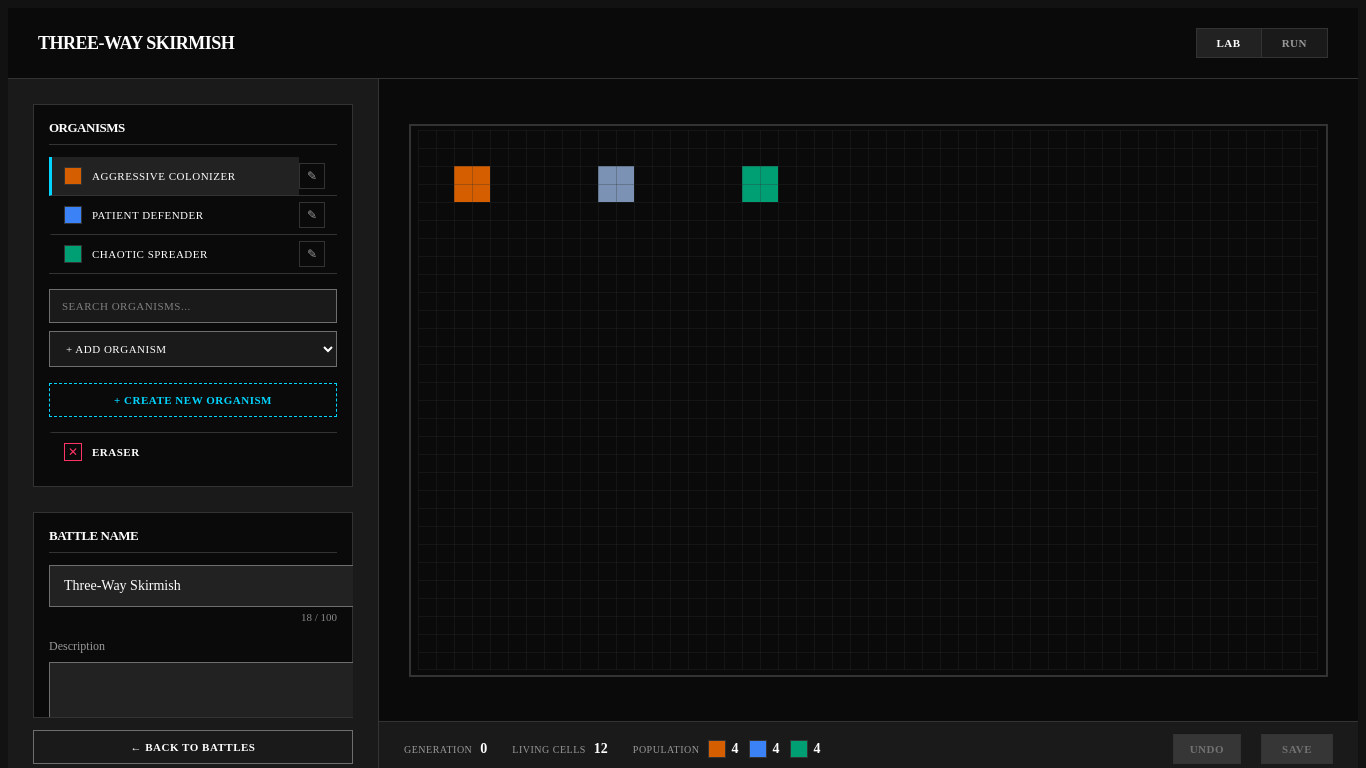
Scenario: BattlePage — create organism from battle (Story 4.25) › Cancel on a clean draft adds no row, leaves the selection unchanged and writes nothing (AC5)
Expected: the heading "Three-Way Skirmish" is shown, [38,32,234,54]
Expected: the button "Aggressive Colonizer" is shown, [49,157,299,196]
Click the button "+ Create New Organism": (193, 400) [49,383,337,417]
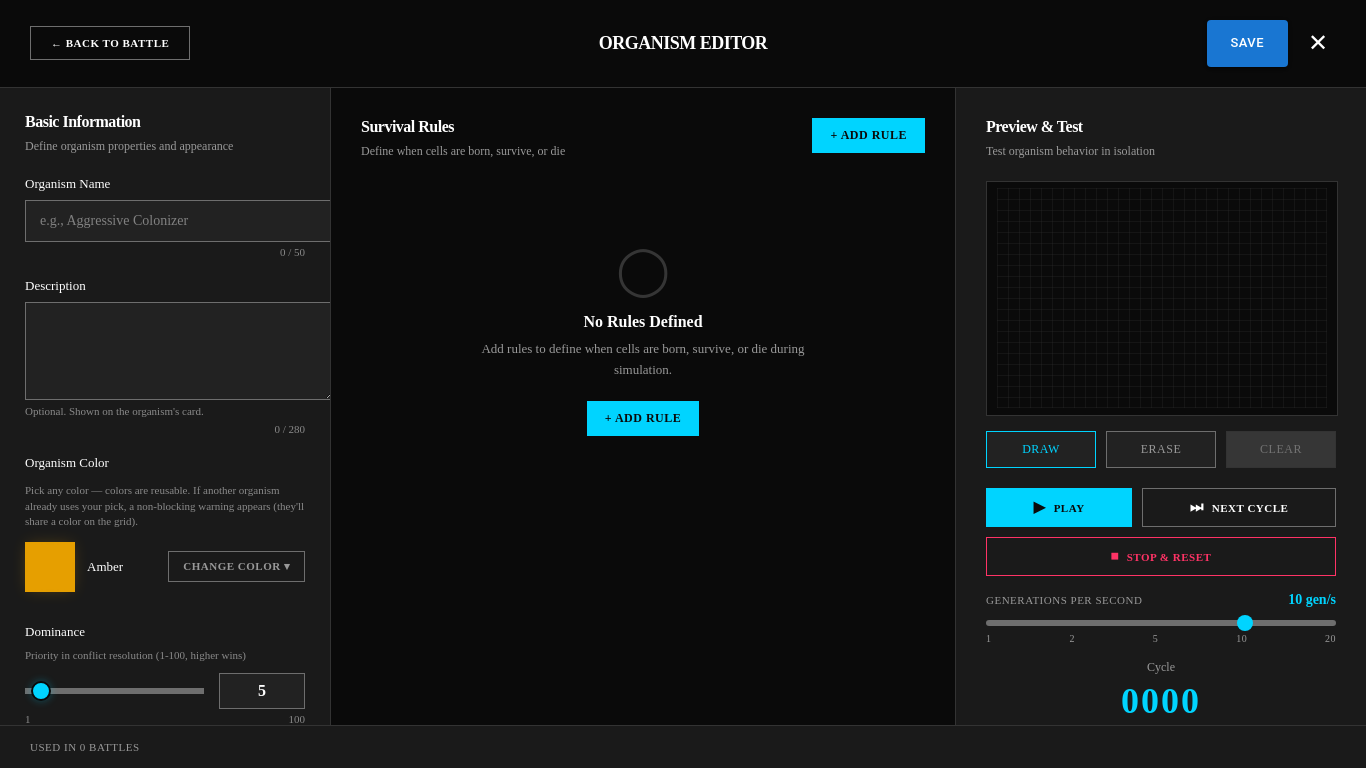
Click the button "← Back to Battle": (110, 43) [30,26,190,60]
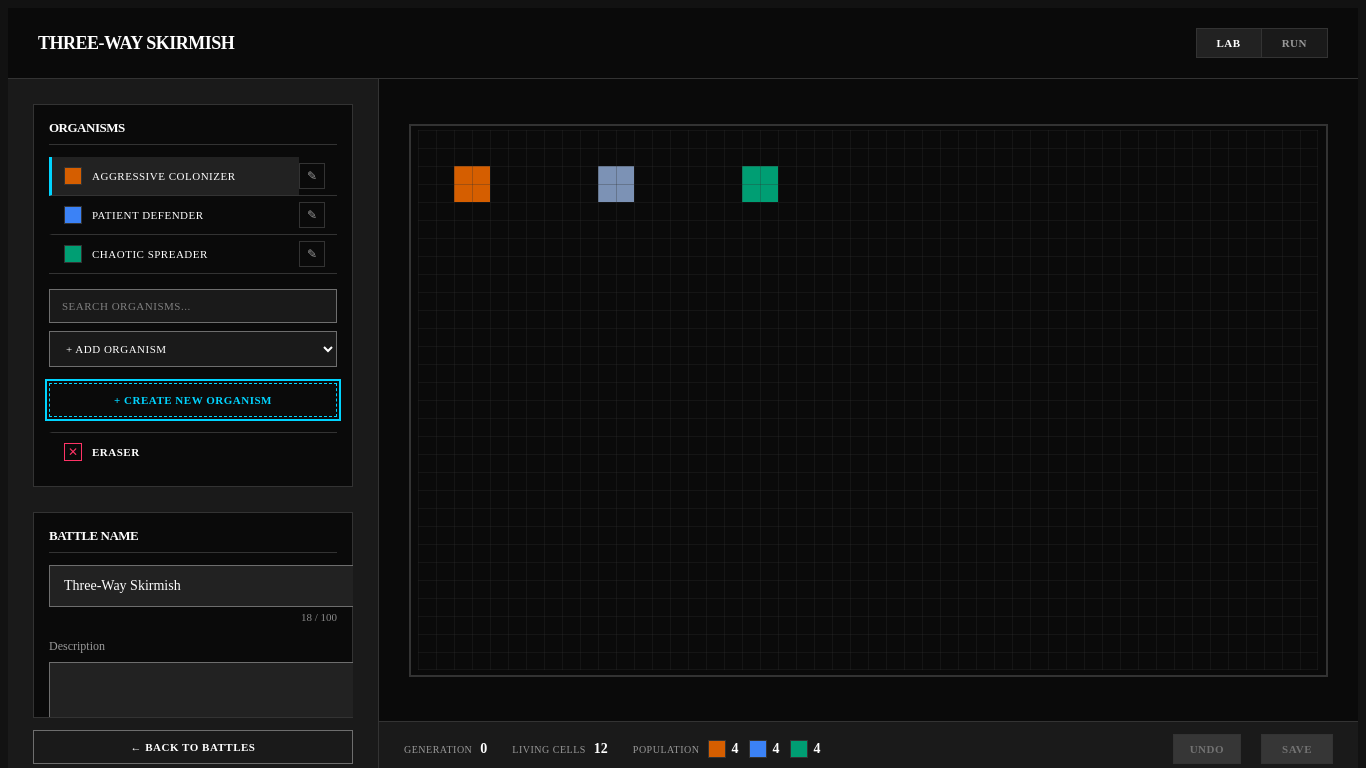
Expected: the dialog is gone
